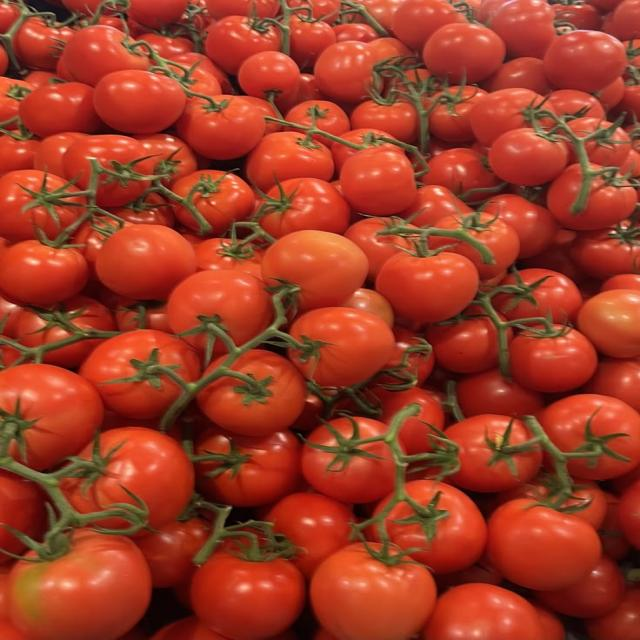tomato: (9, 530, 151, 639), (60, 427, 194, 530), (310, 543, 436, 639), (0, 364, 104, 469), (80, 330, 200, 418), (487, 498, 601, 590), (191, 551, 305, 639), (381, 480, 486, 574), (198, 350, 306, 436), (167, 270, 273, 353), (287, 307, 395, 387), (539, 394, 639, 480), (194, 427, 301, 507), (261, 230, 367, 310), (302, 417, 395, 503), (96, 224, 196, 300), (265, 493, 354, 578), (446, 415, 542, 492), (375, 252, 479, 323), (420, 583, 544, 639), (62, 135, 154, 207), (0, 169, 86, 241), (428, 212, 519, 280), (93, 70, 186, 134), (547, 164, 637, 230), (509, 326, 598, 392), (0, 240, 89, 306), (176, 95, 266, 160), (256, 177, 351, 238), (535, 556, 625, 617), (60, 25, 150, 86), (245, 131, 334, 192), (172, 169, 254, 235), (134, 517, 210, 588), (14, 295, 116, 347), (421, 23, 506, 84), (340, 148, 417, 215), (544, 30, 626, 91), (426, 305, 499, 373), (493, 269, 582, 324), (482, 194, 557, 259), (374, 387, 445, 455), (470, 88, 553, 146), (19, 82, 103, 138), (488, 128, 569, 186), (205, 15, 281, 75), (344, 216, 413, 280), (421, 147, 499, 202), (0, 471, 45, 565), (578, 289, 639, 357), (519, 227, 587, 286), (570, 223, 639, 280), (314, 41, 377, 103), (489, 0, 556, 58), (74, 215, 132, 282), (393, 0, 467, 51), (376, 325, 434, 390), (134, 133, 197, 188), (12, 16, 75, 70), (427, 86, 486, 142), (331, 128, 404, 173), (567, 117, 632, 166), (582, 358, 639, 412), (400, 185, 473, 227), (350, 100, 419, 144), (237, 51, 300, 99), (586, 585, 639, 639), (194, 238, 264, 278), (167, 52, 233, 94), (481, 57, 552, 95), (284, 100, 355, 136), (28, 132, 86, 176), (289, 15, 336, 69), (109, 192, 175, 227), (436, 557, 502, 592), (112, 297, 171, 333), (600, 492, 631, 560), (340, 288, 394, 327), (496, 475, 560, 506), (0, 77, 35, 130), (151, 616, 227, 639), (545, 89, 605, 118), (0, 135, 41, 176), (127, 0, 187, 28), (242, 96, 282, 135), (137, 32, 194, 59), (359, 0, 403, 32), (206, 0, 279, 19), (552, 3, 602, 30), (619, 481, 639, 548), (532, 602, 566, 639), (288, 0, 339, 24), (612, 0, 639, 40), (0, 294, 22, 337), (600, 273, 639, 292), (24, 70, 61, 87), (0, 620, 33, 639), (0, 3, 19, 34), (0, 48, 9, 75)
